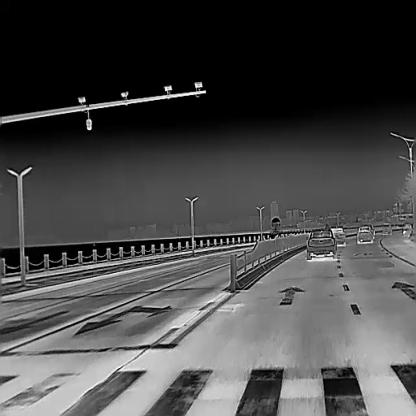car: (305, 228, 337, 258), (329, 226, 345, 245), (356, 225, 373, 242), (381, 222, 392, 234), (402, 223, 412, 234)
